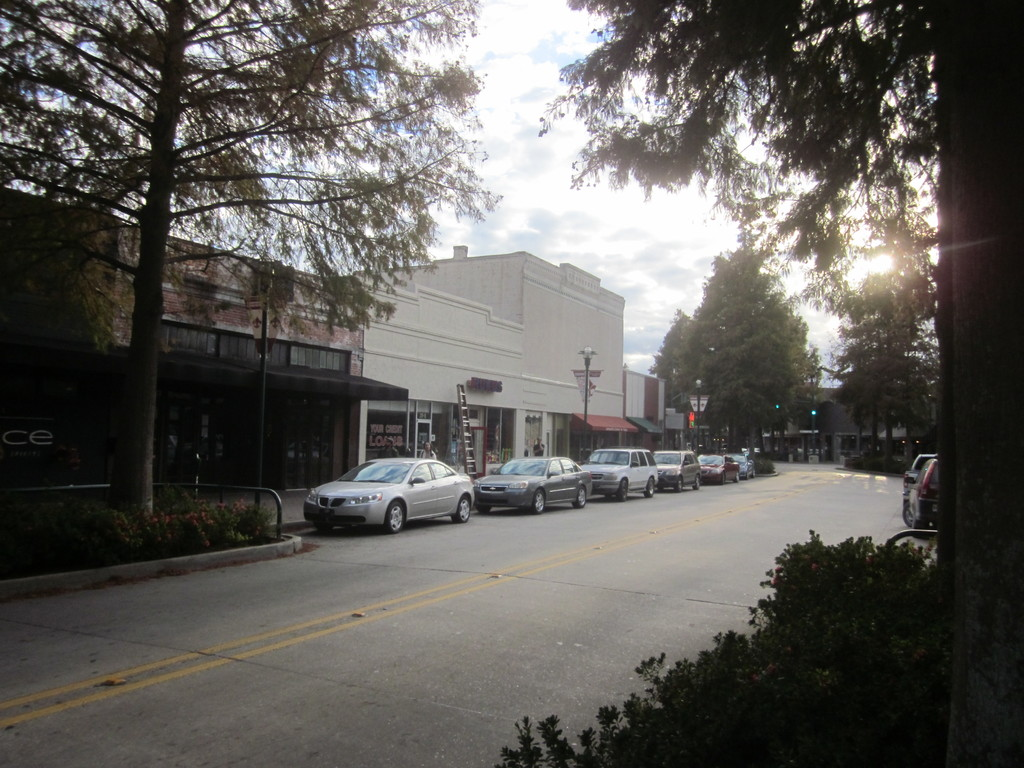Car: (472, 445, 757, 515), (296, 450, 478, 536), (469, 452, 592, 513), (581, 440, 655, 498), (908, 456, 944, 534), (647, 446, 704, 490), (696, 446, 741, 480), (904, 455, 924, 498), (728, 449, 752, 477)
